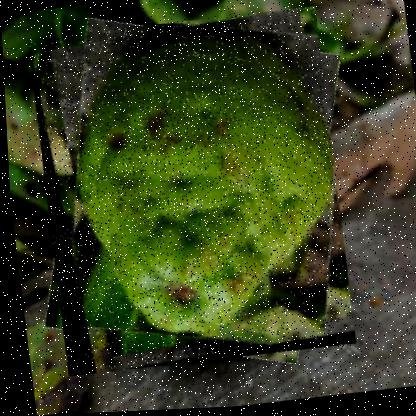guava: (26, 9, 353, 379)
